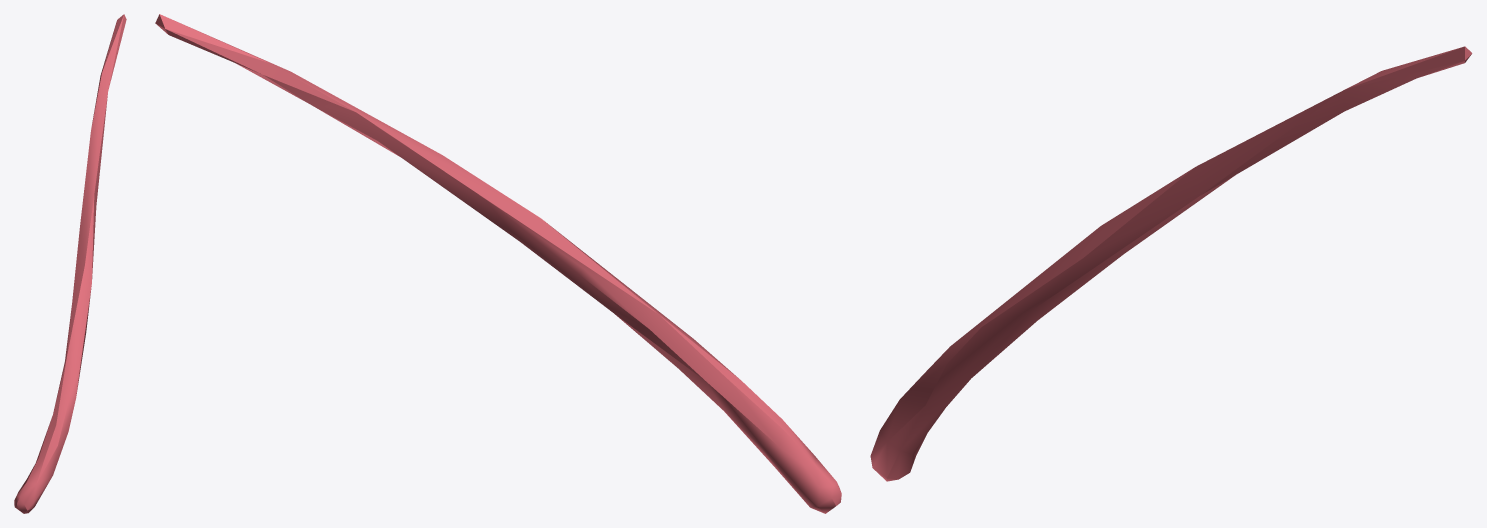
The model's file is fma50449_fj5119.glb.
The picture shows the model from 3 angles, left to right: view 1: azimuth 30°, elevation 25°; view 2: azimuth 150°, elevation 25°; view 3: azimuth 270°, elevation 25°; orthographic projection. The views are drawn at different scales.
Visible parts, largest first — view 1: FMA50449_FJ5119; view 2: FMA50449_FJ5119; view 3: FMA50449_FJ5119.
Boxes of the visible parts, x1,y1,x2,y2 form: FMA50449_FJ5119: (14, 14, 126, 513); FMA50449_FJ5119: (155, 14, 841, 513); FMA50449_FJ5119: (870, 46, 1472, 481).
Bounding box in the file's own units: 0.00487 × 0.00613 × 0.005.
